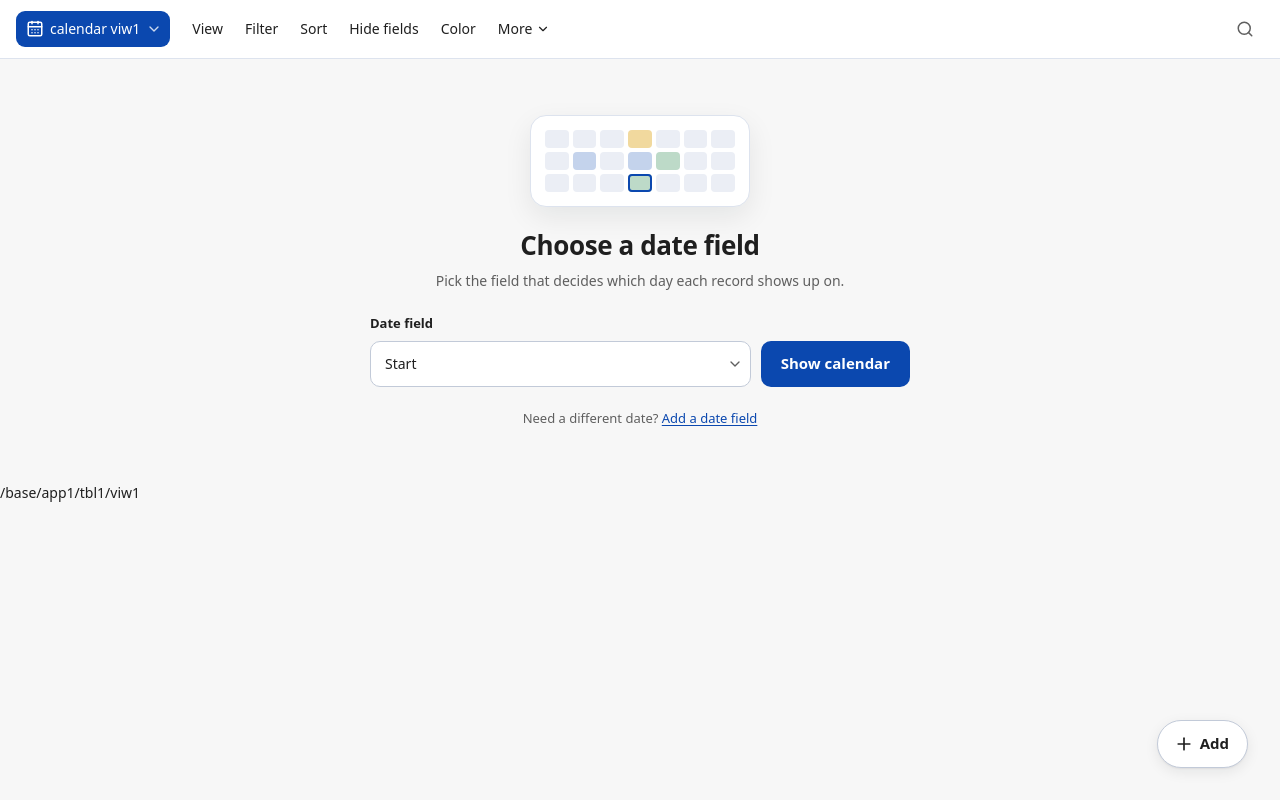
Test: ViewSetupState (a calendar without a date field) › offers the date field dialog from the footnote, with the date type chosen
Expected: the heading "Choose a date field" is shown, [520, 227, 760, 263]
Expected: the text "Need a different date?" is shown, [523, 409, 658, 427]
Click the button "Add a date field": coordinates (710, 418) [662, 409, 757, 427]
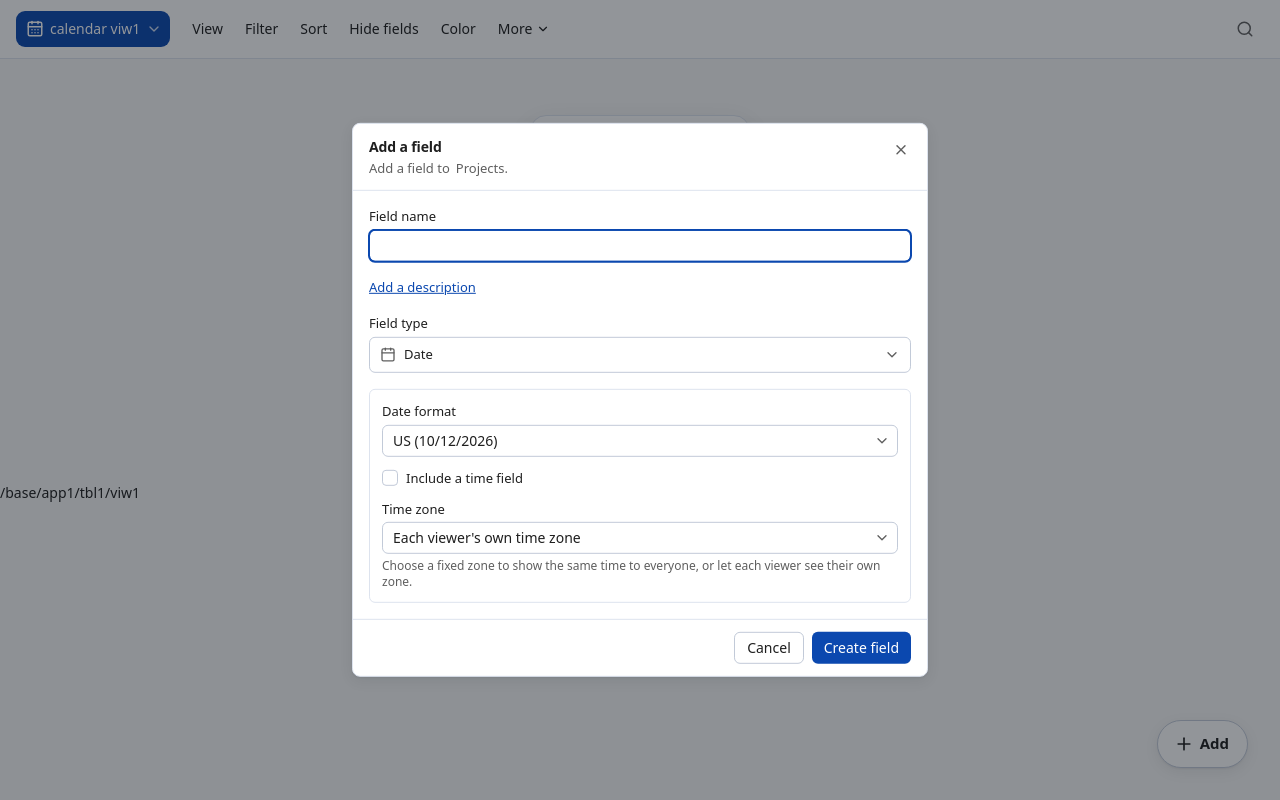
Now the dialog "Add a field" shows "Date", box [369, 337, 911, 373]
